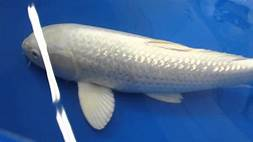white: (21, 22, 253, 131)
